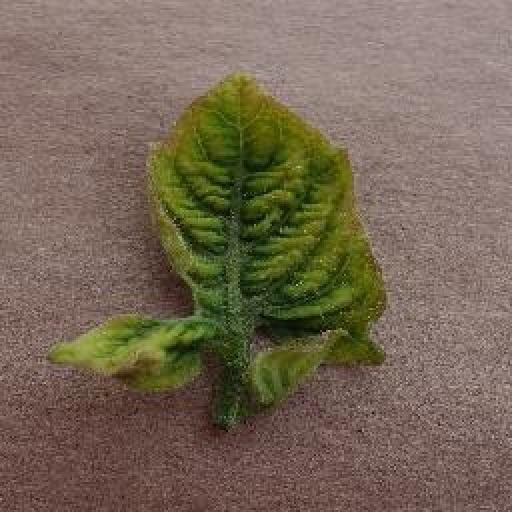disease_tomato: (51, 73, 392, 408)
